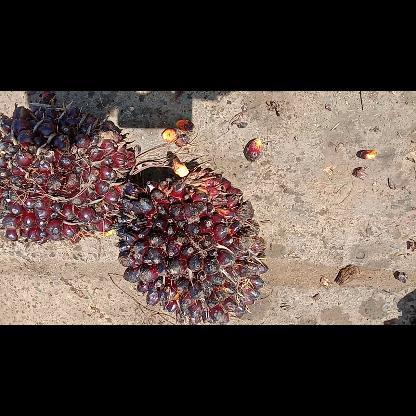Kurang masak: (113, 154, 268, 324), (0, 102, 138, 244)
